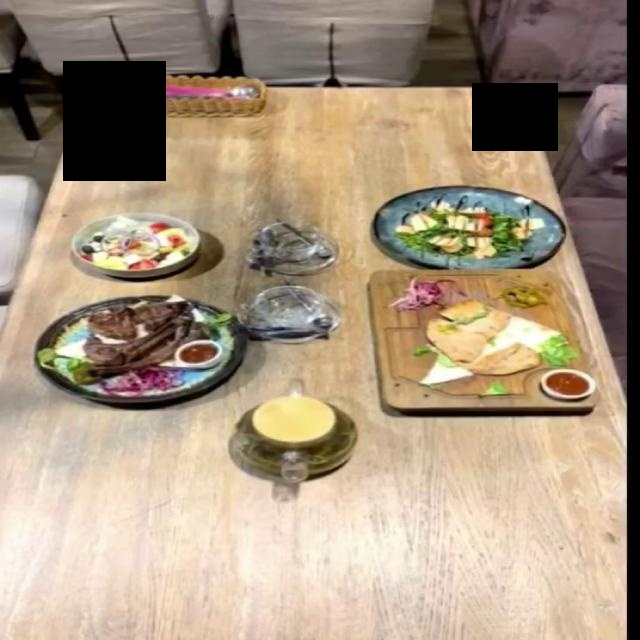meat: (367, 276, 596, 412), (33, 295, 249, 404)
salad: (374, 185, 568, 268), (68, 211, 202, 276)
tea: (229, 392, 359, 480)
